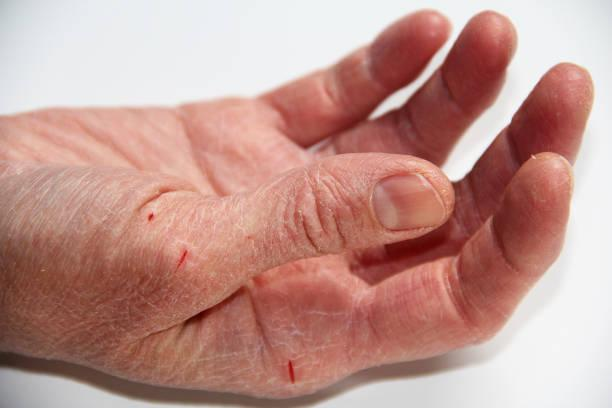Dry-Skin: (35, 188, 393, 397)
